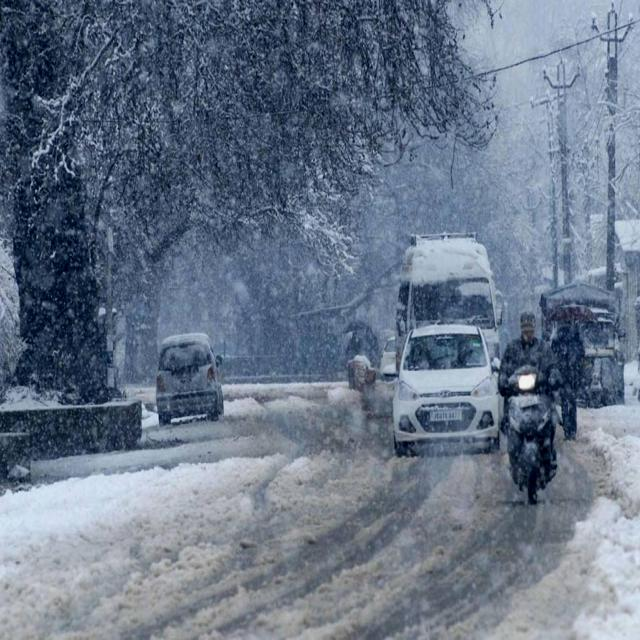Car: (395, 324, 498, 461), (150, 317, 230, 449)
Cycle: (500, 285, 567, 523), (337, 292, 389, 423)
Van: (389, 221, 504, 364)
